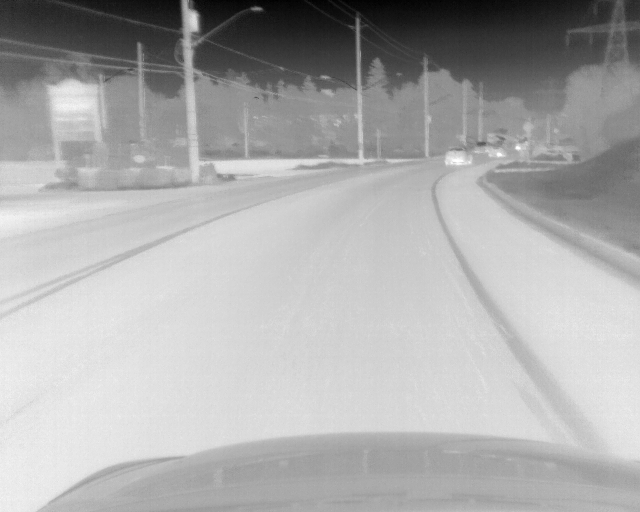car: (444, 146, 472, 166), (488, 146, 505, 159), (474, 142, 488, 154), (513, 141, 526, 151)
